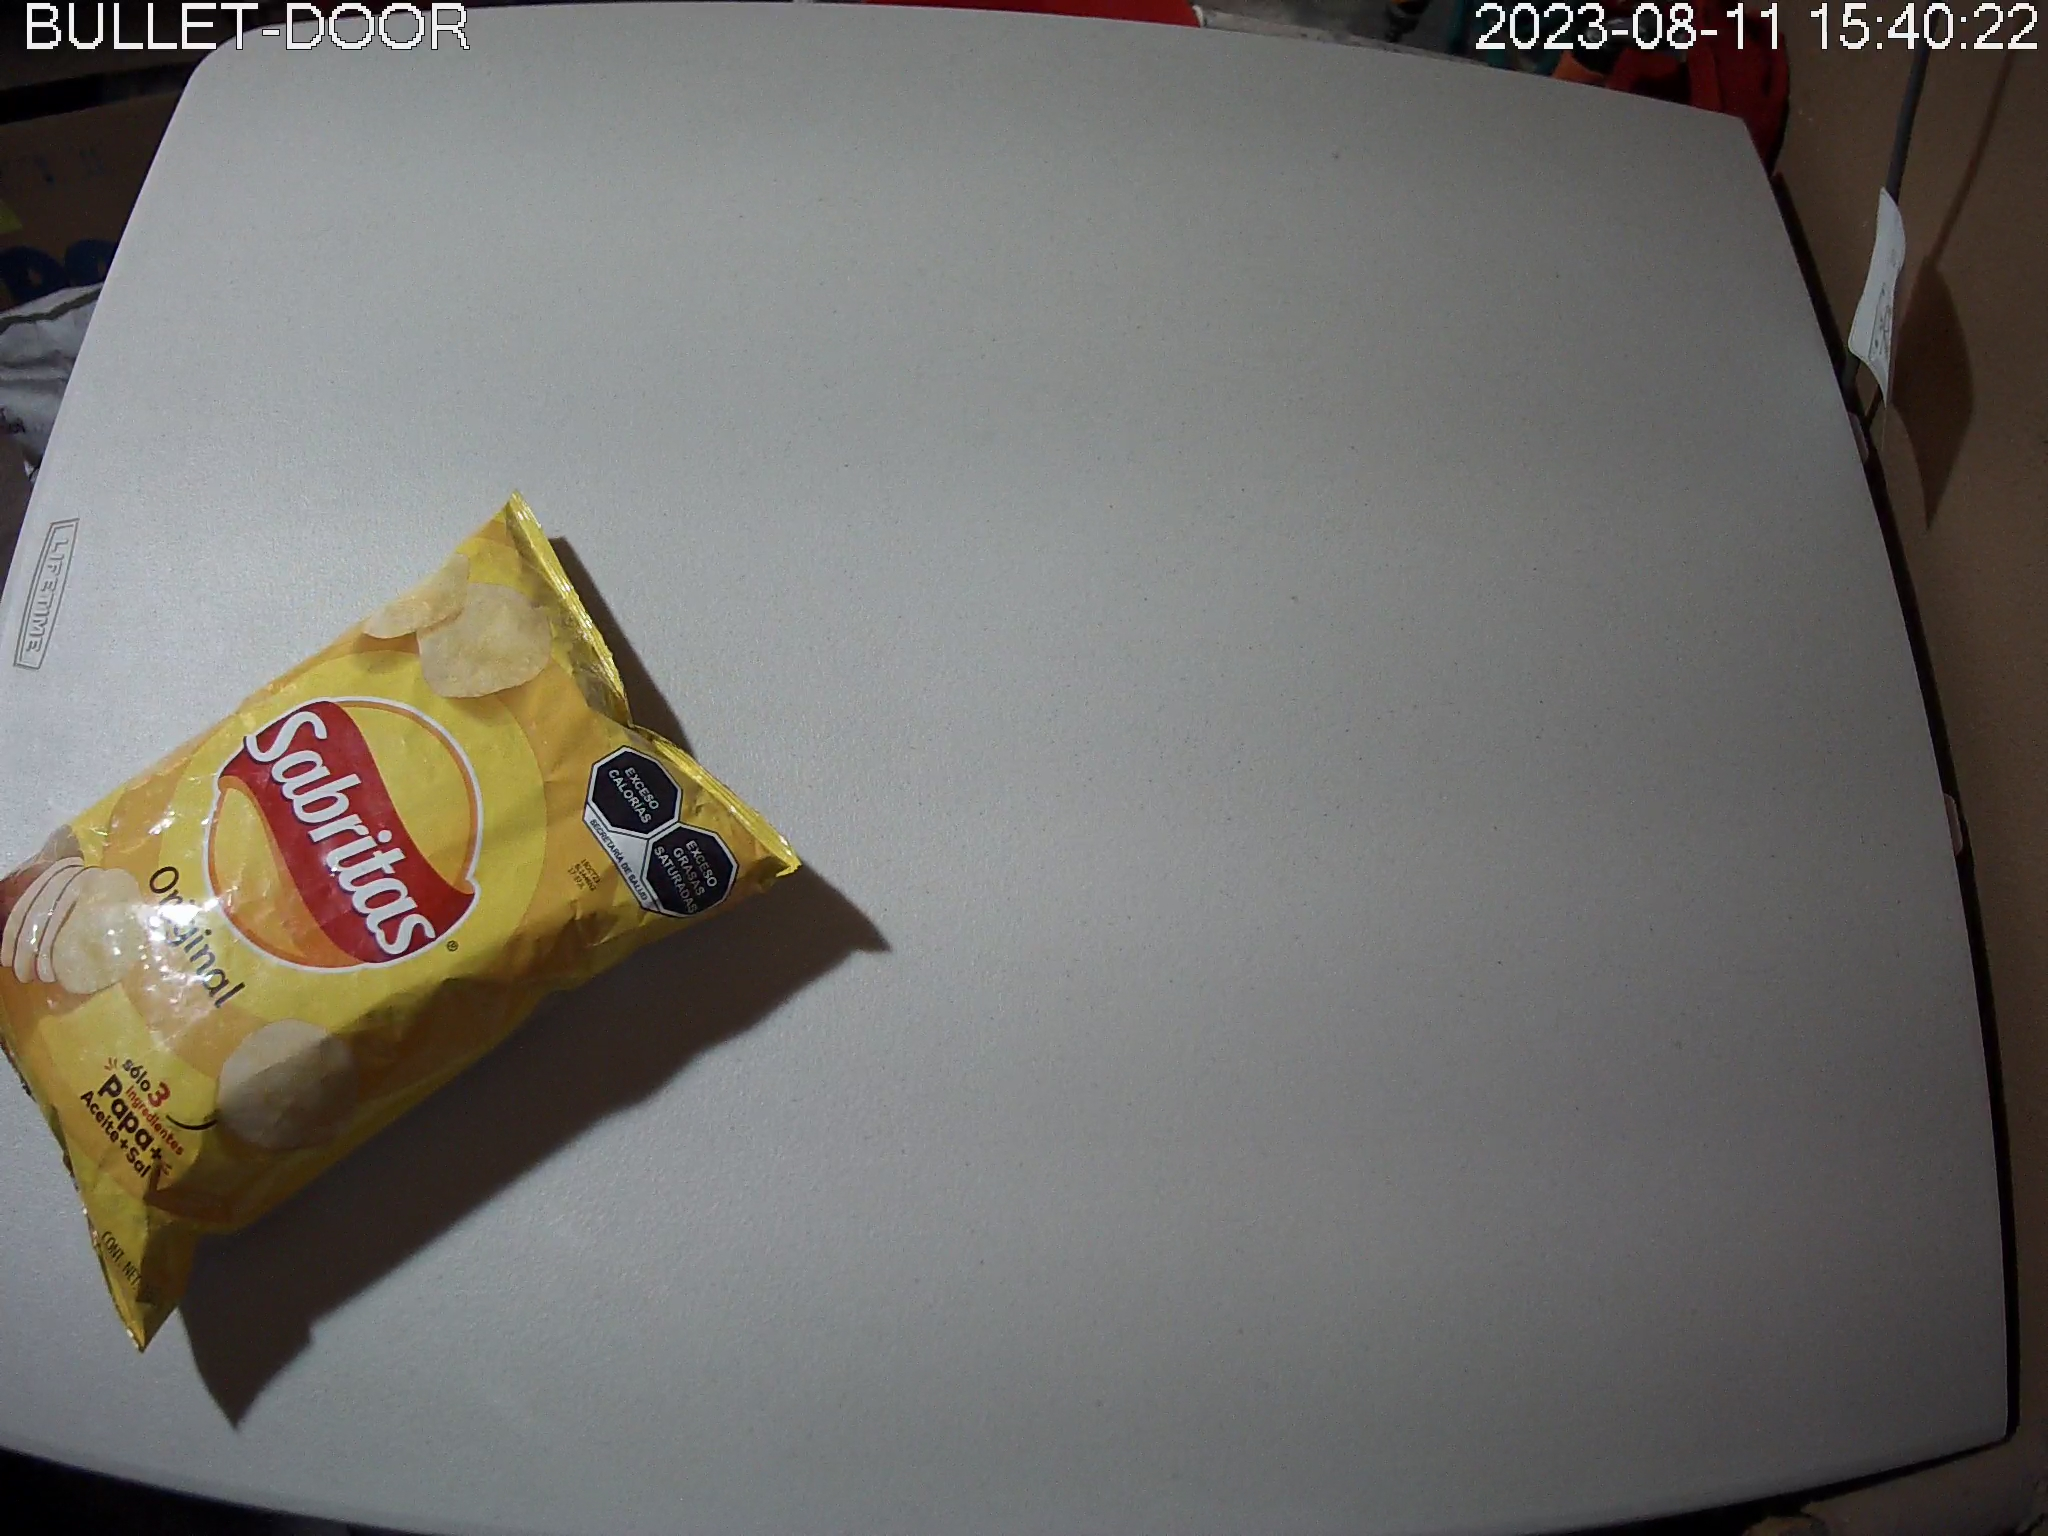Sabritas_160_F: (2, 490, 805, 1357)
